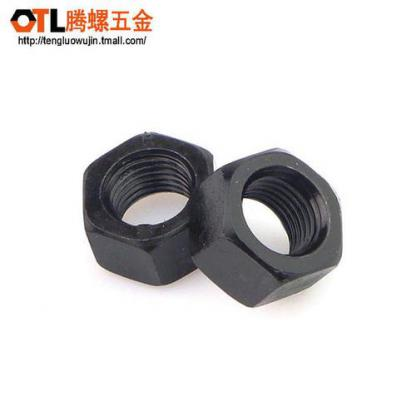FOD: (185, 146, 345, 311), (81, 129, 217, 289)
